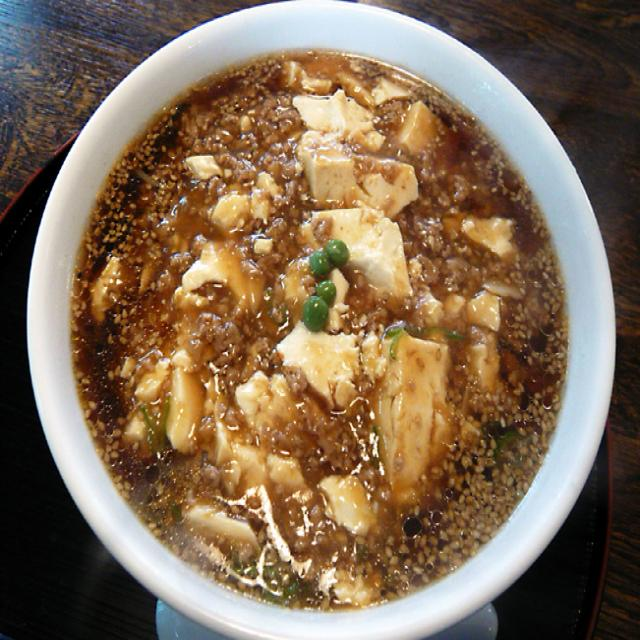豆腐料理: (19, 0, 632, 640)
